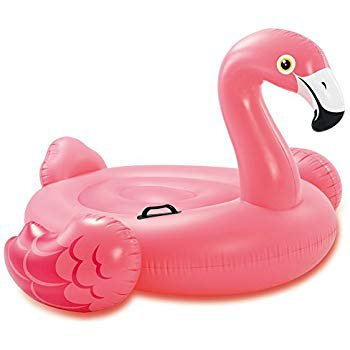Flamingo: (1, 26, 346, 315)
